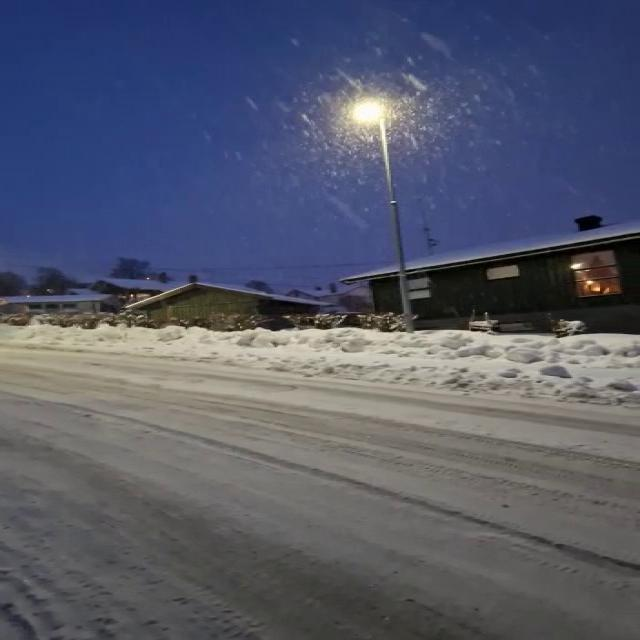path: (2, 347, 638, 640)
